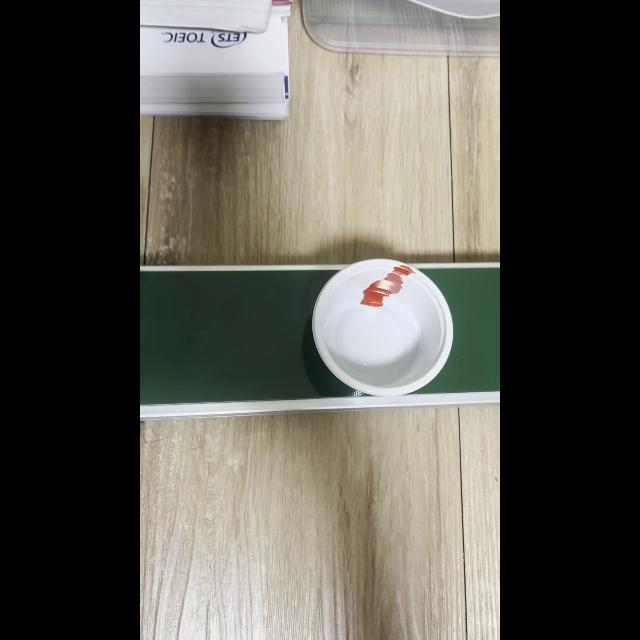dirty: (325, 265, 437, 387)
